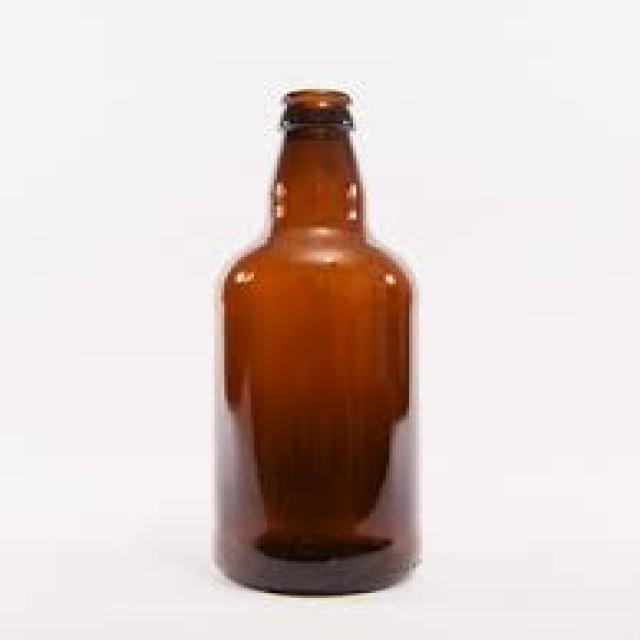glass: (215, 87, 413, 593)
